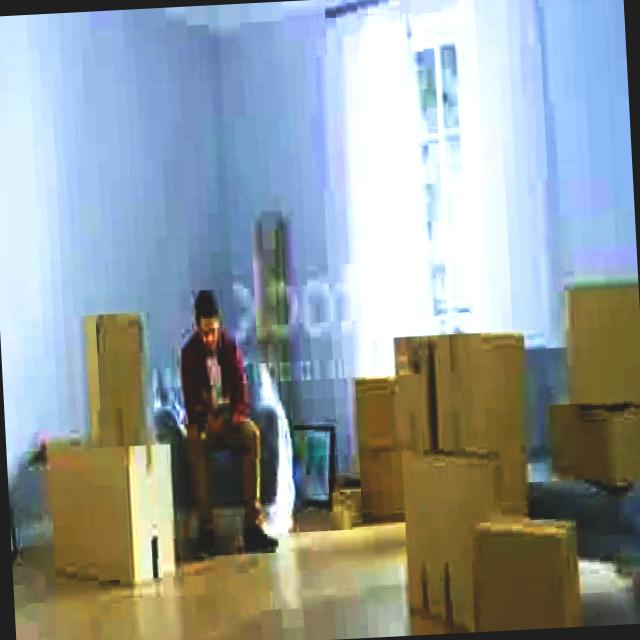Box: (49, 442, 174, 578), (398, 456, 490, 626), (436, 330, 526, 460), (476, 516, 580, 628), (80, 316, 158, 448), (555, 289, 640, 407), (557, 412, 640, 480), (391, 342, 441, 447)
